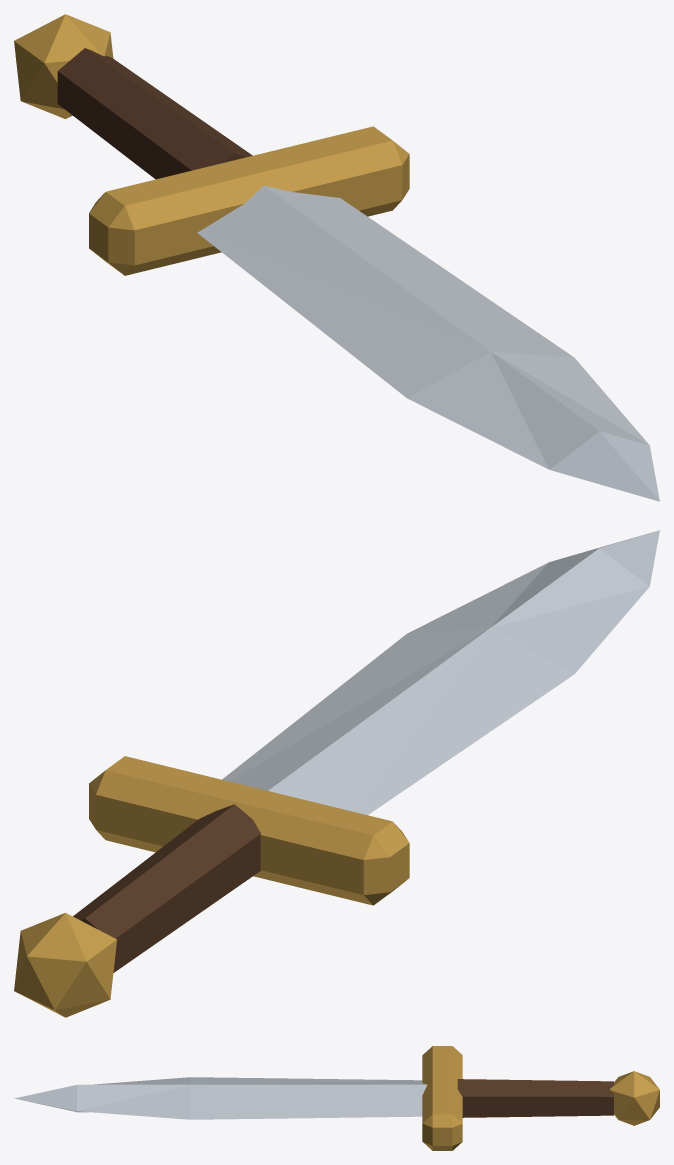
File: Shot_Knife.fbx
3 views of the same model, one above another, from view 1: azimuth 30°, elevation 25°; view 2: azimuth 150°, elevation 25°; view 3: azimuth 270°, elevation 25° (orthographic). The views are drawn at different scales.
Visible parts, largest first — view 1: Blade, Gold, Grip; view 2: Blade, Gold, Grip; view 3: Blade, Gold, Grip.
Boxes of the visible parts, box(x1,y1,x2,y2) form: Blade: box(197, 185, 659, 501); Gold: box(14, 14, 409, 275); Grip: box(57, 48, 252, 179); Blade: box(222, 530, 659, 815); Gold: box(14, 756, 409, 1017); Grip: box(73, 804, 260, 972); Blade: box(14, 1077, 427, 1119); Gold: box(422, 1046, 659, 1150); Grip: box(457, 1079, 613, 1117).
Bounding box in the file's own units: 0.72 × 0.24 × 2.56.
